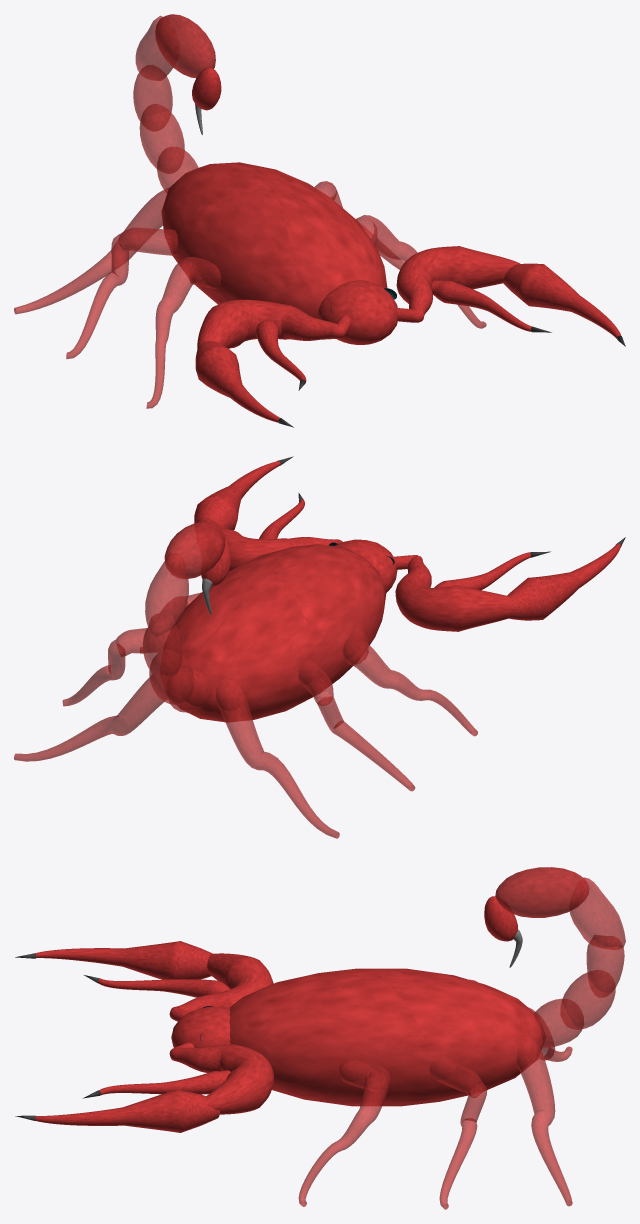
Rendered from scorpion.glb.
3 renders of one model, top to bottom at view 1: azimuth 30°, elevation 25°; view 2: azimuth 150°, elevation 25°; view 3: azimuth 270°, elevation 25°, orthographic. The views are drawn at different scales.
Parts seen in each view (by area): view 1: Body, Icosphere.005, BezierCurve, BezierCurve.005, Head, BezierCurve.001, BezierCurve.008, BezierCurve.016, BezierCurve.013, Icosphere.006, BezierCurve.004, BezierCurve.002 (+4 smaller); view 2: Body, Icosphere.005, BezierCurve.005, BezierCurve.016, BezierCurve.004, BezierCurve.007, BezierCurve.013, BezierCurve.008, Icosphere.006, BezierCurve.015, BezierCurve.001, BezierCurve (+5 smaller); view 3: Body, Icosphere.005, BezierCurve, BezierCurve.001, BezierCurve.004, Icosphere.006, BezierCurve.007, BezierCurve.011, BezierCurve.015, BezierCurve.005, Head, BezierCurve.002 (+3 smaller).
Part boxes in pixels (x1,y1,x2,y2): Body: [161, 162, 387, 339]; Icosphere.005: [133, 15, 198, 192]; BezierCurve: [396, 246, 520, 322]; BezierCurve.005: [197, 299, 351, 348]; Head: [317, 280, 397, 344]; BezierCurve.001: [503, 263, 621, 338]; BezierCurve.008: [66, 227, 177, 359]; BezierCurve.016: [14, 187, 169, 314]; BezierCurve.013: [146, 257, 221, 408]; Icosphere.006: [155, 14, 215, 77]; BezierCurve.004: [195, 340, 279, 422]; BezierCurve.002: [431, 280, 531, 331]; Body: [163, 544, 386, 722]; Icosphere.005: [142, 553, 211, 712]; BezierCurve.005: [393, 555, 516, 631]; BezierCurve.016: [216, 680, 339, 838]; BezierCurve.004: [507, 543, 620, 620]; BezierCurve.007: [14, 675, 166, 761]; BezierCurve.013: [343, 628, 477, 736]; BezierCurve.008: [298, 659, 415, 791]; Icosphere.006: [164, 522, 225, 578]; BezierCurve.015: [62, 628, 169, 706]; BezierCurve.001: [194, 461, 280, 530]; BezierCurve: [197, 517, 342, 571]; Body: [229, 968, 546, 1106]; Icosphere.005: [534, 877, 625, 1047]; BezierCurve: [169, 1042, 273, 1114]; BezierCurve.001: [35, 1089, 219, 1132]; BezierCurve.004: [35, 941, 212, 979]; Icosphere.006: [495, 867, 589, 917]; BezierCurve.007: [517, 1036, 572, 1206]; BezierCurve.011: [298, 1059, 390, 1206]; BezierCurve.015: [429, 1056, 487, 1209]; BezierCurve.005: [169, 953, 273, 1021]; Head: [171, 1006, 230, 1047]; BezierCurve.002: [99, 1070, 230, 1095].
Bounding box in the file's own units: 6.15 × 4.31 × 9.27.
7 materials, 5 textured.
